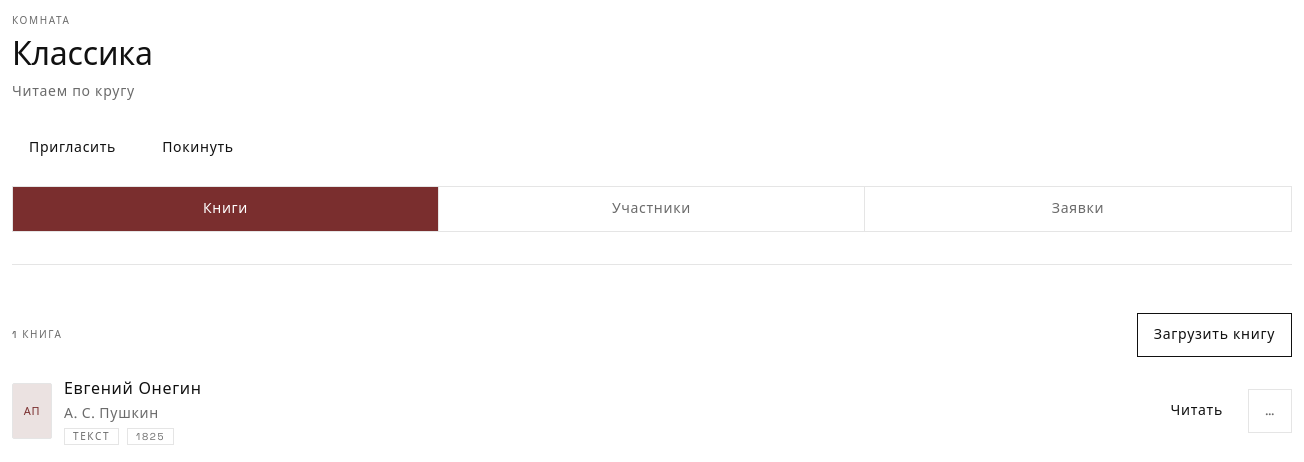
исключение участника › участнику кнопки исключения нет вовсе
Expected: the heading "Классика" is shown, [12,34,153,74]
Click the tab "Участники" at (652, 209), box [439,187,865,231]
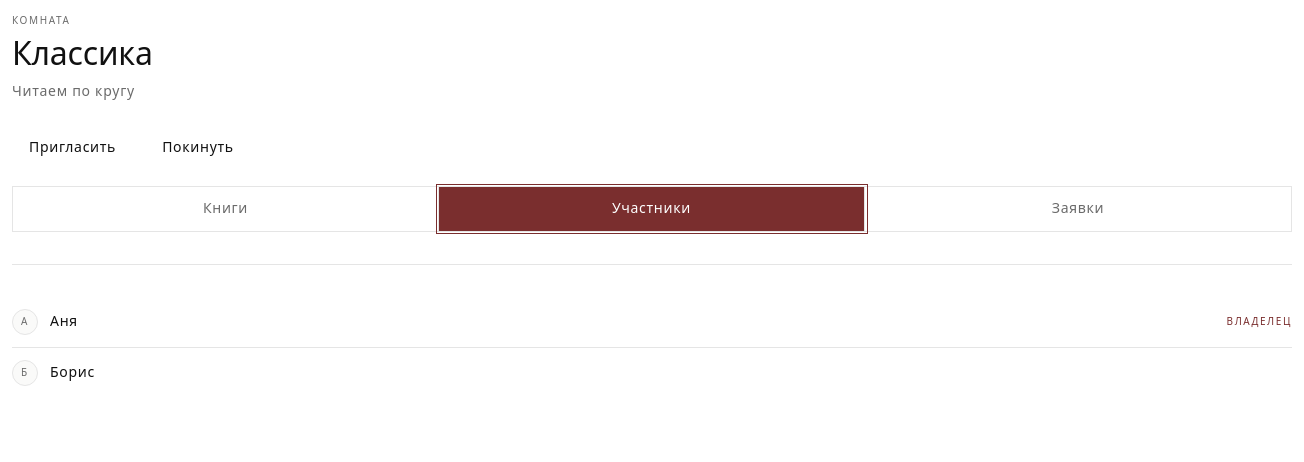
Expected: the text "Борис" is shown, [50,363,95,381]
